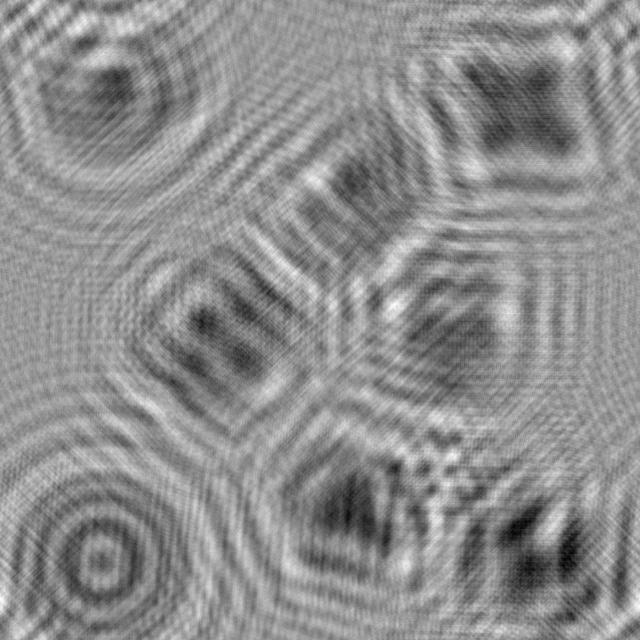A: (223, 367, 484, 640)
H: (81, 206, 361, 466)
J: (0, 0, 242, 234)
L: (203, 77, 471, 325)
O: (0, 400, 276, 640)
T: (310, 193, 573, 445)
W: (405, 404, 640, 639)
X: (371, 0, 639, 244)
